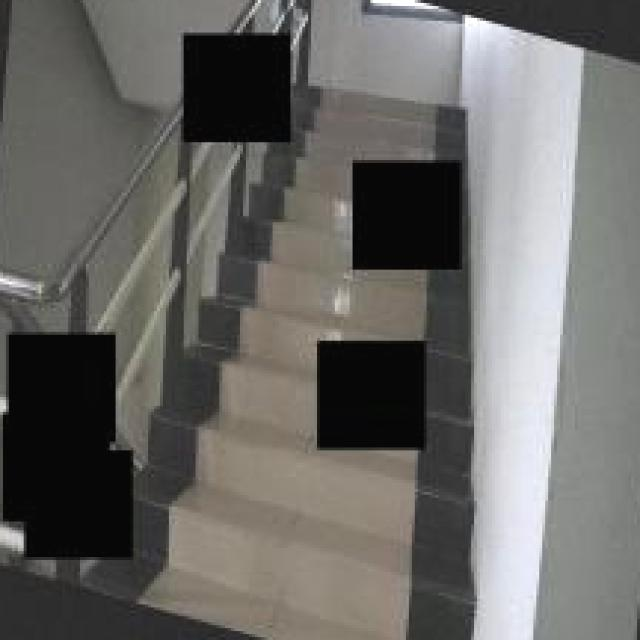upstair: (170, 463, 457, 640), (303, 87, 460, 146)
